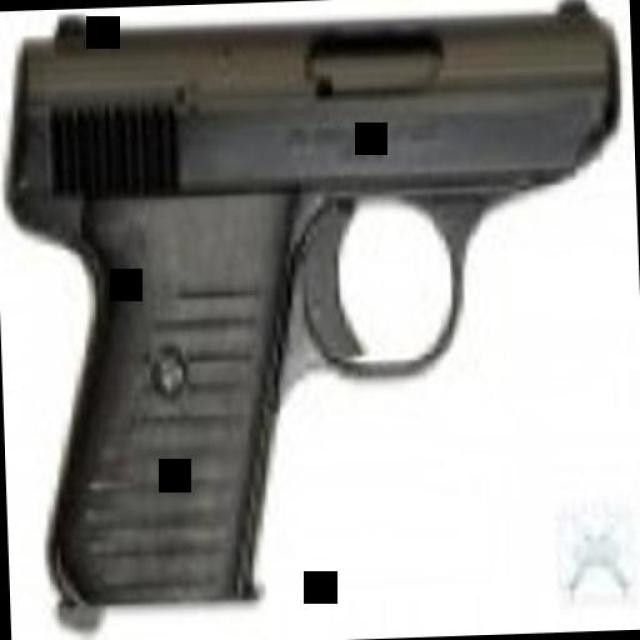gun: (16, 15, 636, 621)
